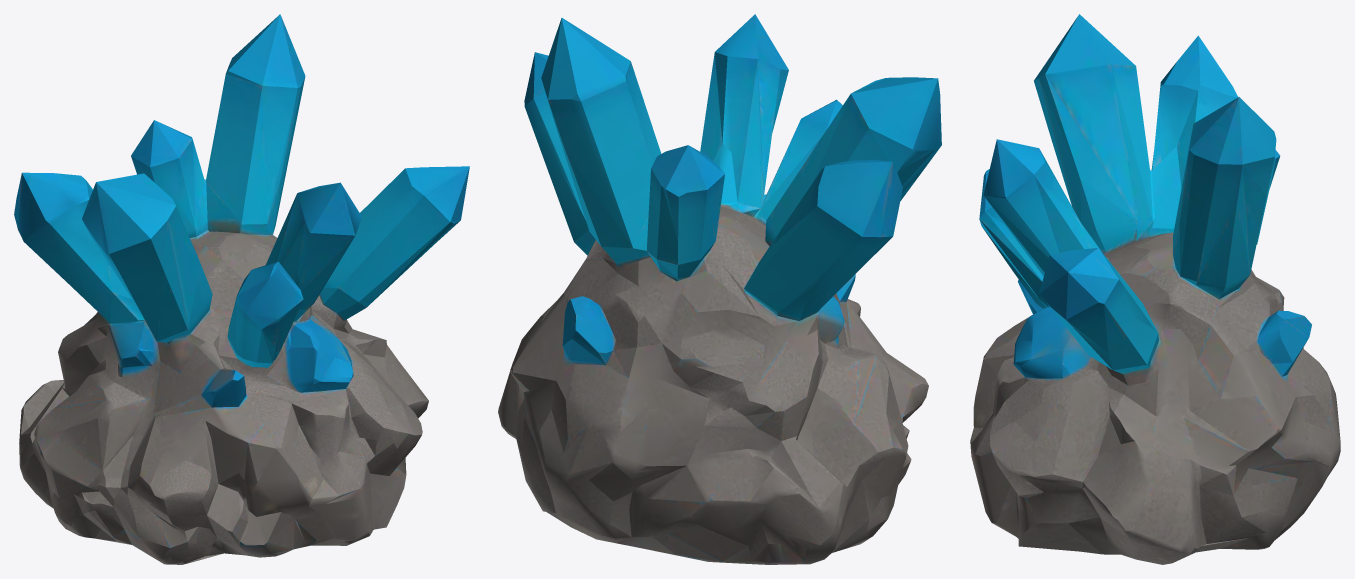
File: crystal-cluster.glb
3 views of the same model, side by side, from view 1: azimuth 30°, elevation 25°; view 2: azimuth 150°, elevation 25°; view 3: azimuth 270°, elevation 25° (orthographic). The views are drawn at different scales.
Parts seen in each view (by area): view 1: output_unwrapped; view 2: output_unwrapped; view 3: output_unwrapped.
Boxes of the visible parts, box(x1,y1,x2,y2) form: output_unwrapped: box(14, 14, 469, 564); output_unwrapped: box(498, 14, 941, 564); output_unwrapped: box(970, 14, 1340, 564).
Size of the model in its own units: 1.76 by 1.9 by 1.41.
1 material, 1 textured.
